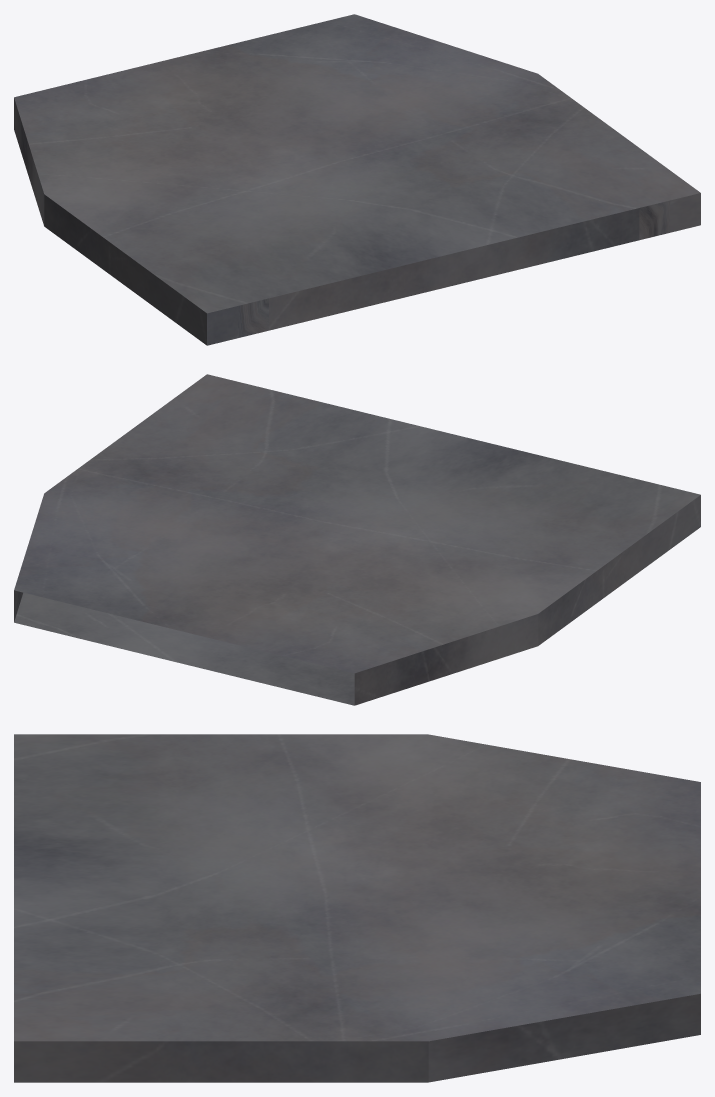
Rendered from HeistPlatform01Col2.fbx.
3 views of the same model, one above another, from view 1: azimuth 30°, elevation 25°; view 2: azimuth 150°, elevation 25°; view 3: azimuth 270°, elevation 25° (orthographic). The views are drawn at different scales.
Visible parts, largest first — view 1: HeistPlatform01Col2; view 2: HeistPlatform01Col2; view 3: HeistPlatform01Col2.
Part boxes in pixels (x1,y1,x2,y2): HeistPlatform01Col2: (14, 14, 700, 345); HeistPlatform01Col2: (14, 374, 700, 705); HeistPlatform01Col2: (14, 734, 700, 1082).
Size of the model in its own units: 8 by 0.6052 by 7.57.
Materials: 1 (1 with a texture image).
